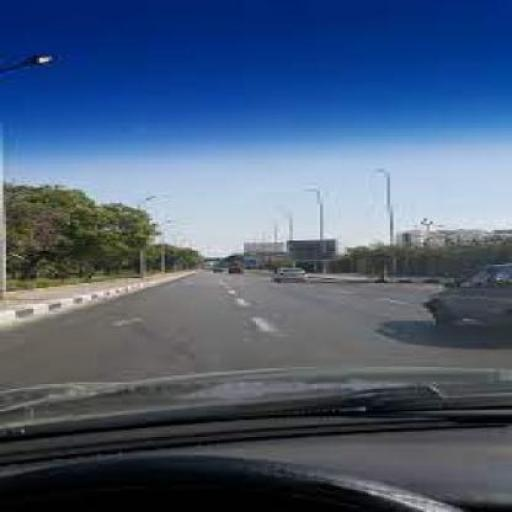street light: (4, 53, 62, 108), (374, 168, 396, 270), (305, 187, 327, 273)
